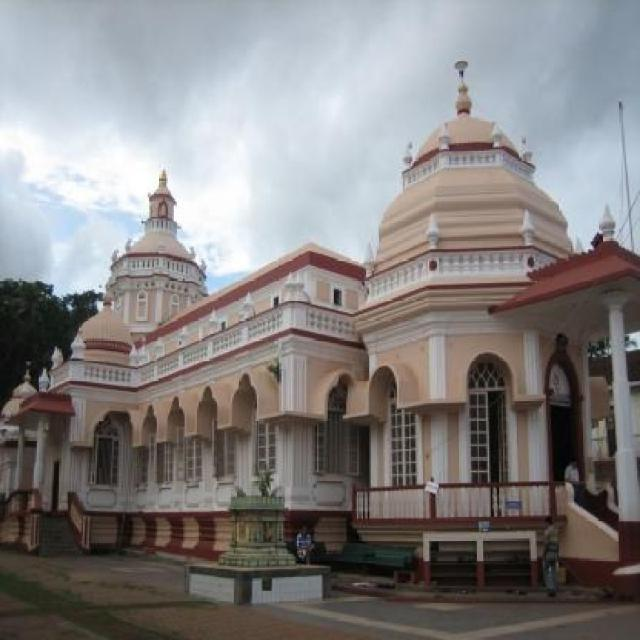stair: (38, 504, 82, 558)
